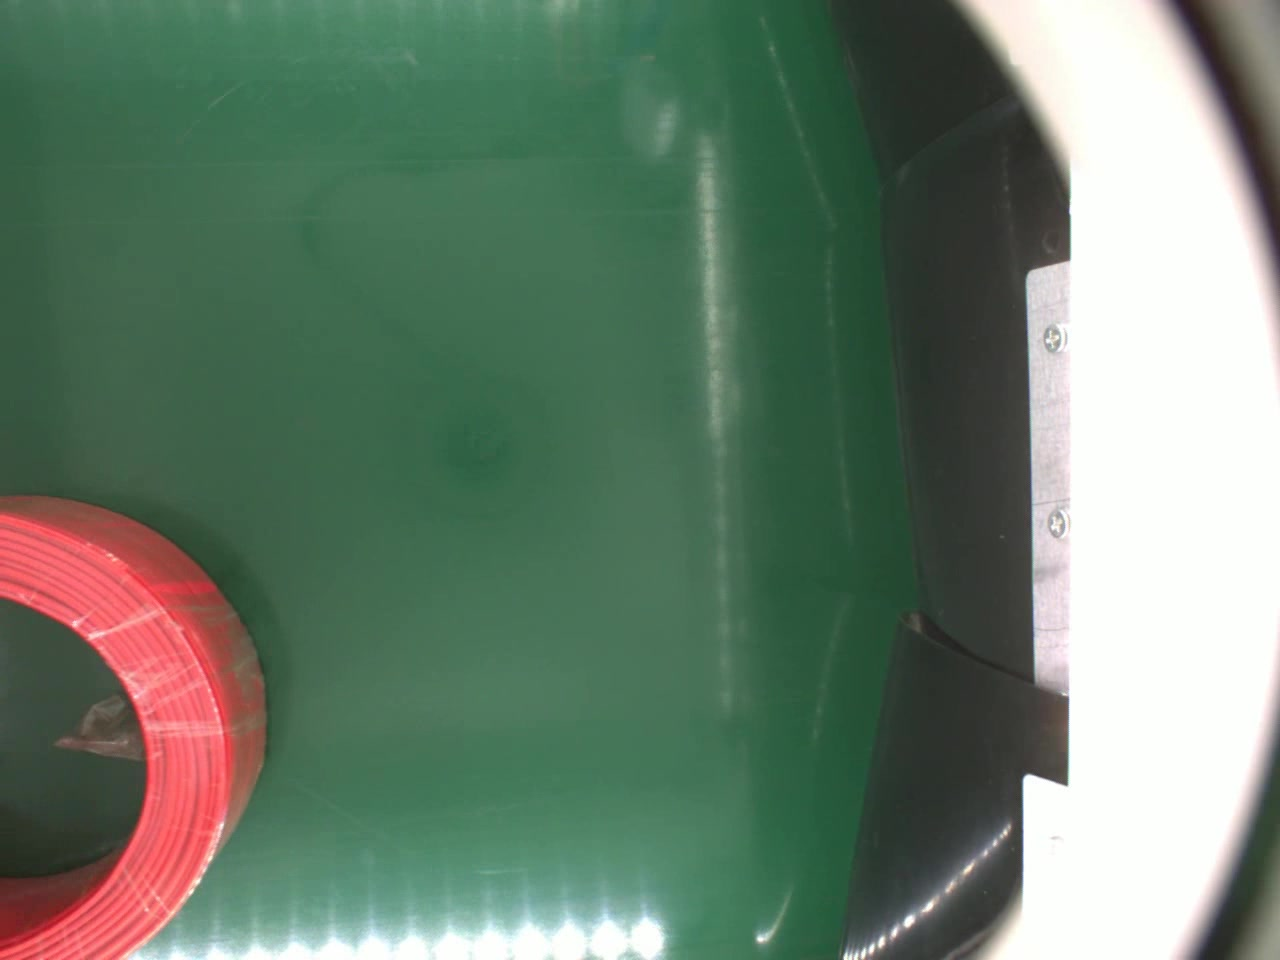red: (0, 494, 271, 960)
